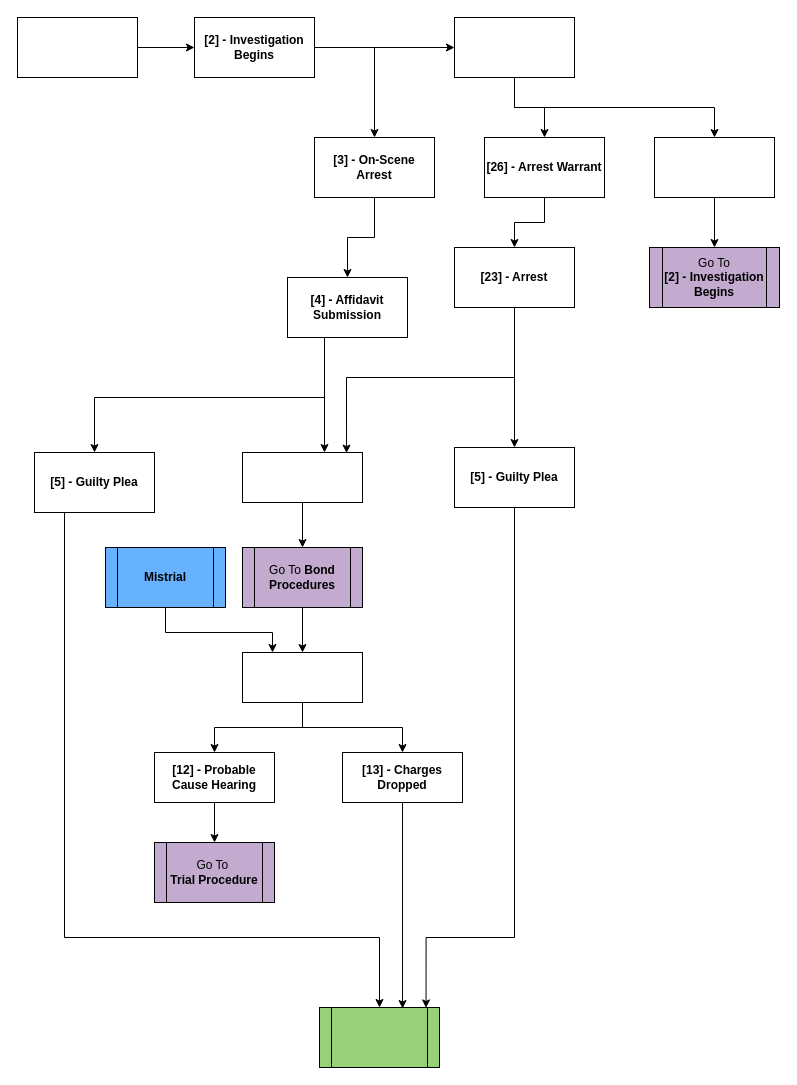
Image size: 797x1085. Some labels were removed from this diagram. Each missing label, with the centre of its shape:
[11] - Prosecutorial Review: (x=302, y=677)
[1] - Alleged Crime Occurs: (x=77, y=47)
[22] - Request for Arrest Warrant: (x=514, y=47)
[24] - Case Complete: (x=379, y=1037)
[25] - Arrest Warrant Denied: (x=714, y=167)
[6] - Not Guilty Plea: (x=302, y=477)
